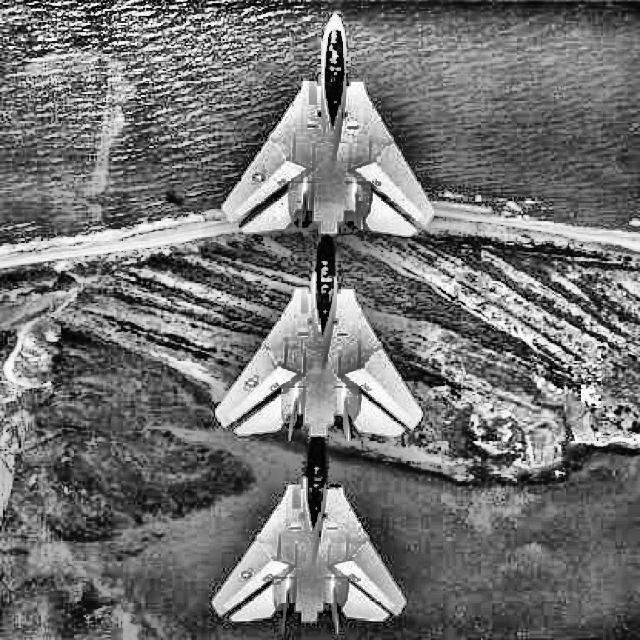F14: (220, 12, 435, 237), (214, 234, 423, 443), (209, 436, 408, 636)
